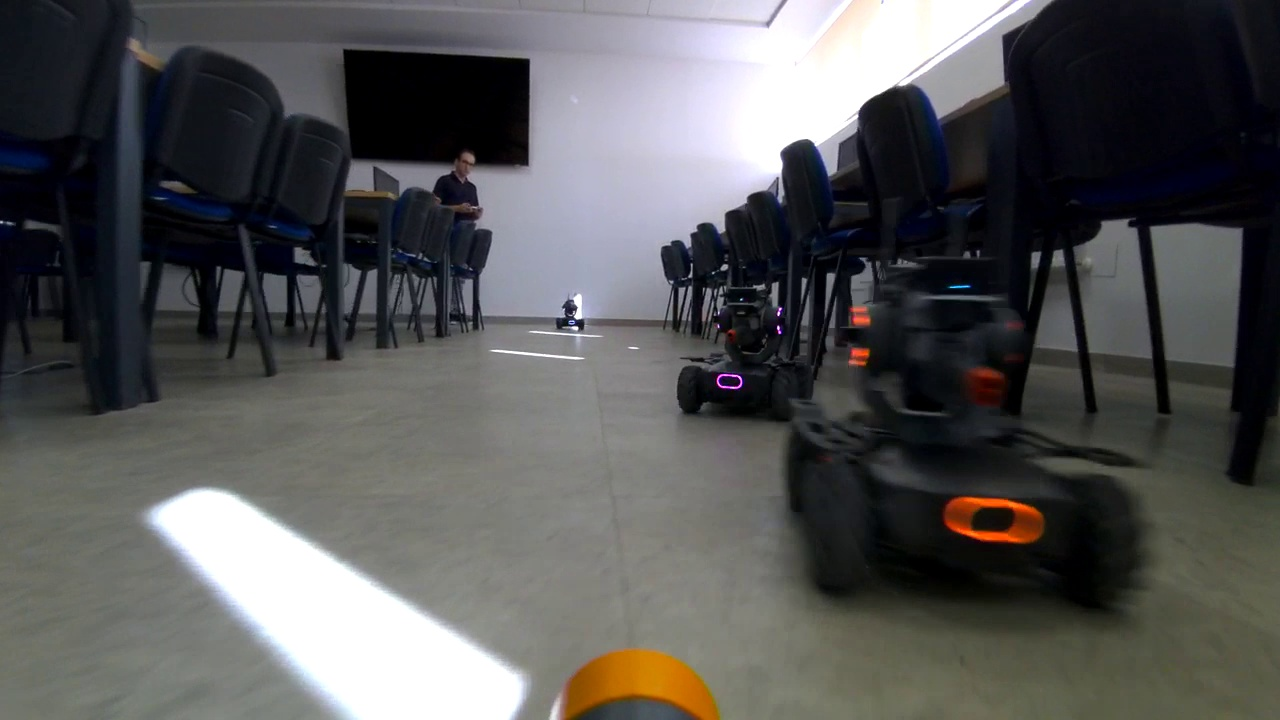robot: (784, 253, 1146, 609), (675, 287, 818, 423), (550, 297, 592, 335)
